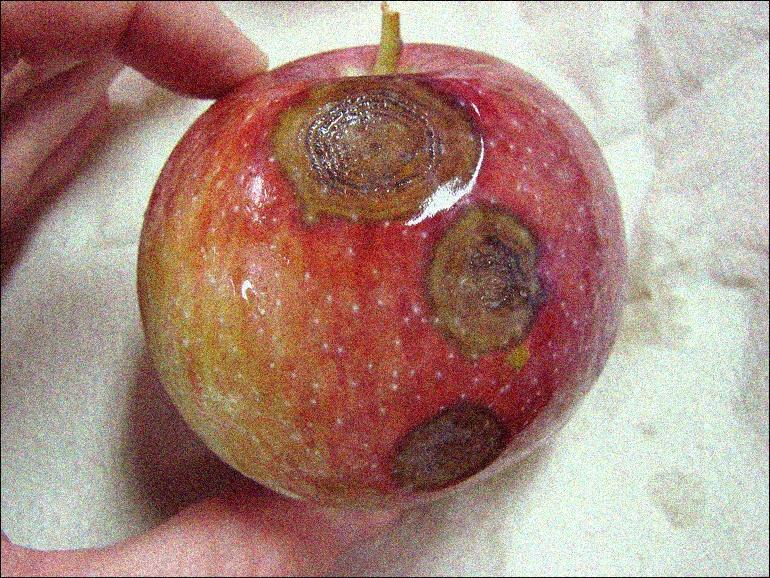rotten apple: (133, 39, 625, 506)
